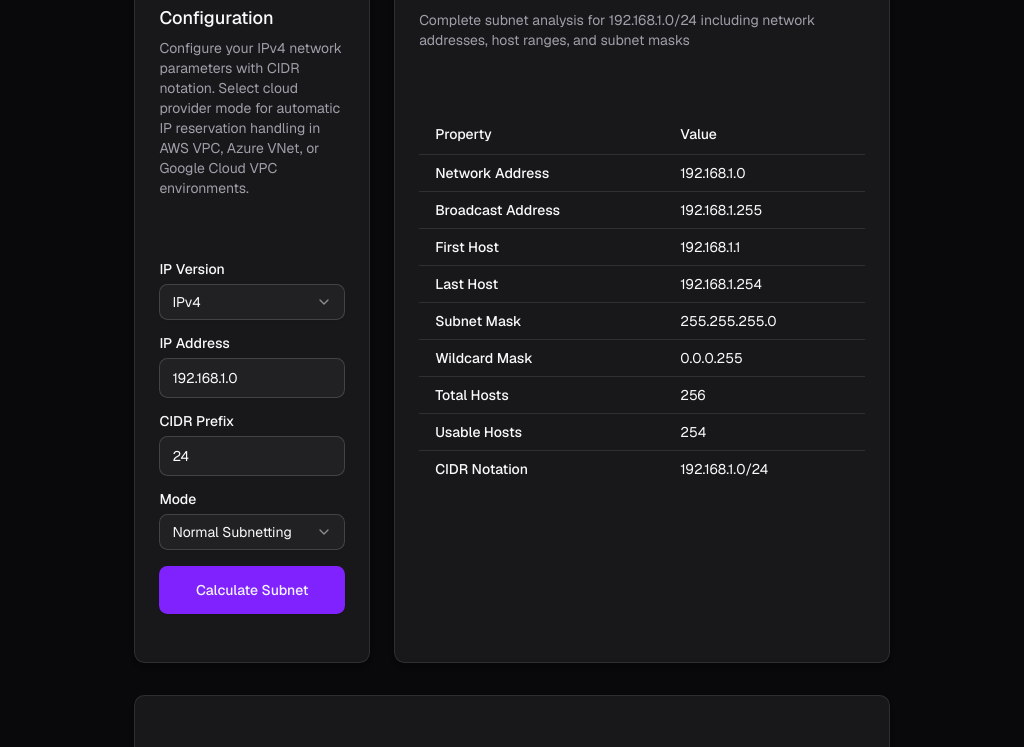
Test case: Subnet Management Integration Tests › Component Interaction and State Management › should handle error states gracefully
(page scrolled)
// Enter invalid IP
Type "999.999.999.999" into the field labelled "IP Address" at (252, 378), box [159, 358, 345, 398]
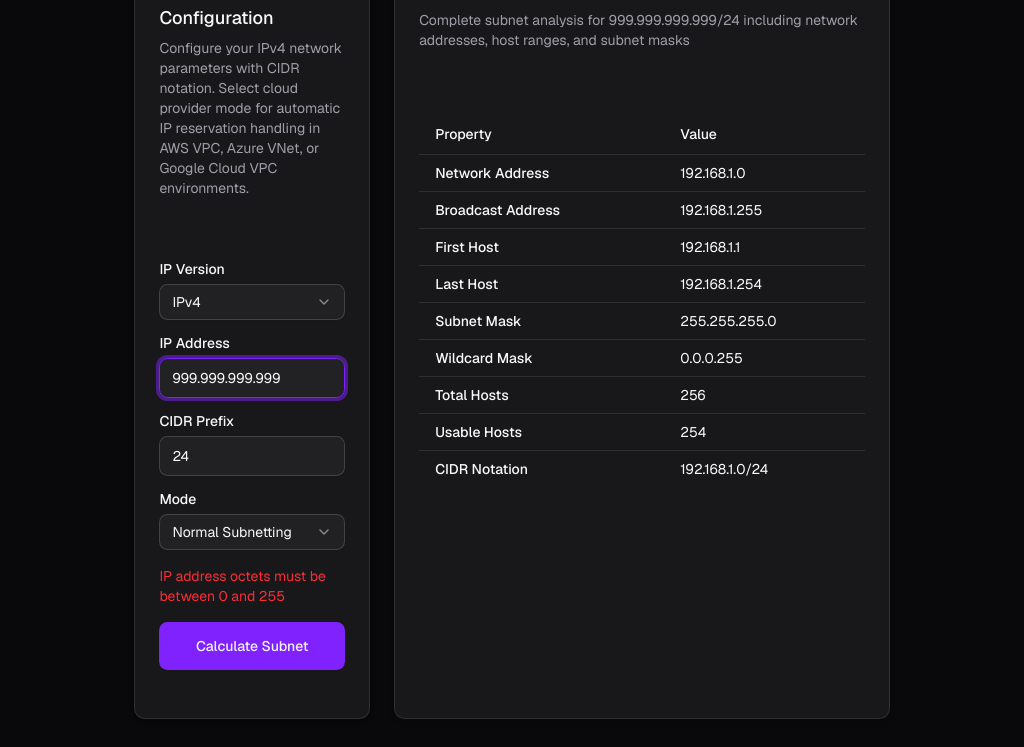
expect the text "IP address octets must be between 0 and 255" is shown: met, box [159, 566, 345, 606]
